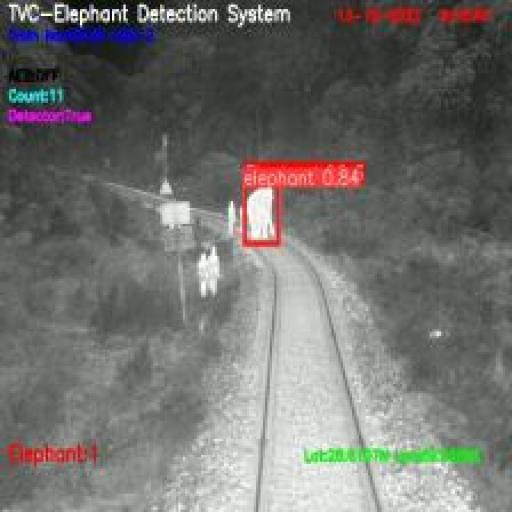Elephant: (245, 187, 280, 247)
